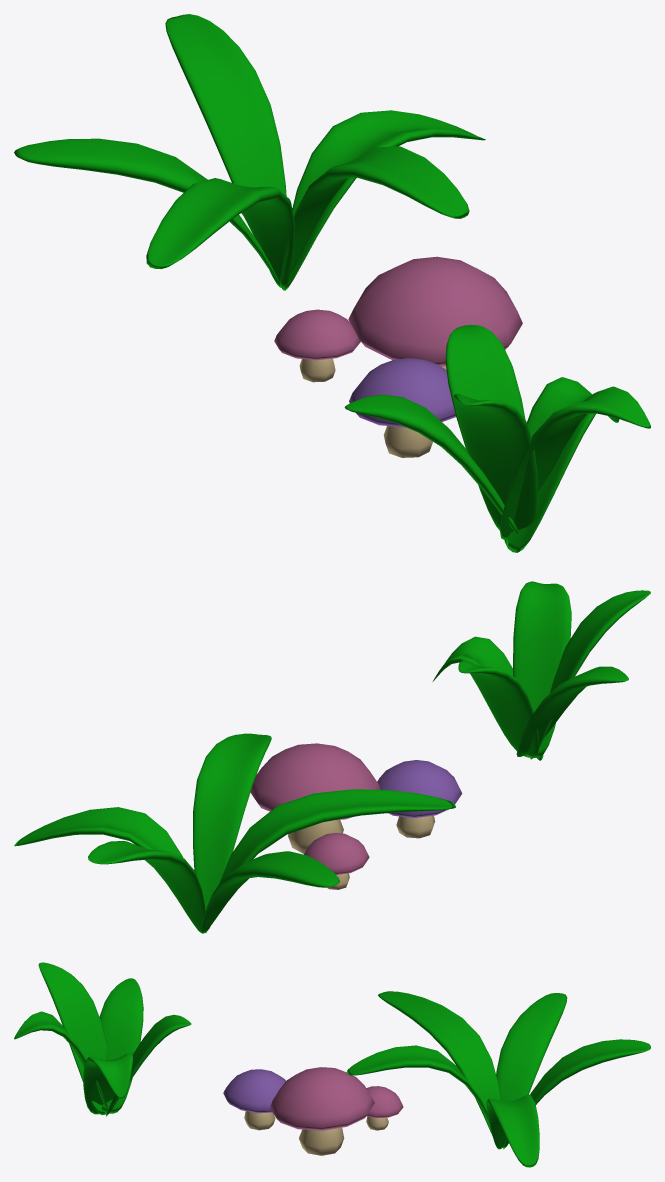
Rendered from grass.fbx.
3 views of the same model, one above another, from view 1: azimuth 30°, elevation 25°; view 2: azimuth 150°, elevation 25°; view 3: azimuth 270°, elevation 25° (orthographic). The views are drawn at different scales.
Visible parts, largest first — view 1: Cube.004, Cube.001, Cylinder.002; view 2: Cube.004, Cube.001, Cylinder.002; view 3: Cube.004, Cube.001, Cylinder.002.
Part boxes in pixels (x1,y1,x2,y2): Cube.004: (14, 14, 485, 290); Cube.001: (344, 324, 650, 552); Cylinder.002: (274, 256, 522, 457); Cube.004: (14, 733, 455, 933); Cube.001: (432, 581, 650, 760); Cylinder.002: (250, 743, 462, 889); Cube.004: (346, 991, 650, 1167); Cube.001: (14, 962, 191, 1116); Cylinder.002: (223, 1067, 403, 1155).
Bounding box in the file's own units: 150 × 65.4 × 294.
